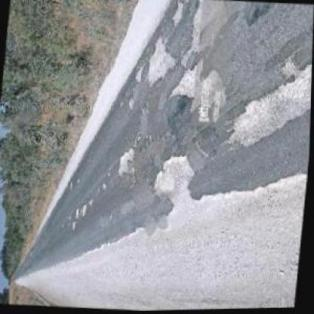Hueco: (224, 54, 312, 155), (148, 153, 198, 206), (143, 36, 177, 89), (167, 62, 199, 104), (116, 148, 138, 178), (170, 0, 184, 32), (80, 203, 91, 220), (70, 221, 78, 230)
